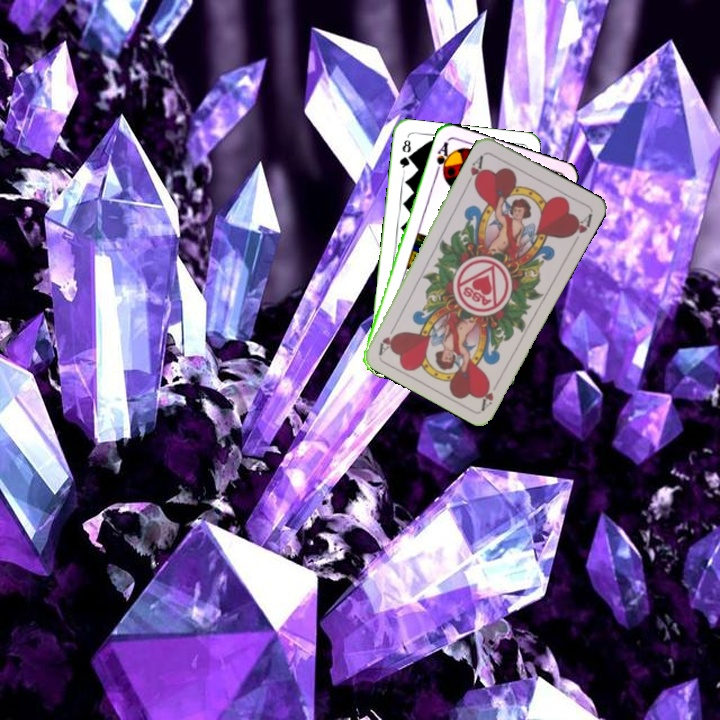G8: (396, 135, 413, 174)
HA: (462, 151, 487, 189), (476, 377, 496, 412)
SA: (431, 137, 454, 178)
